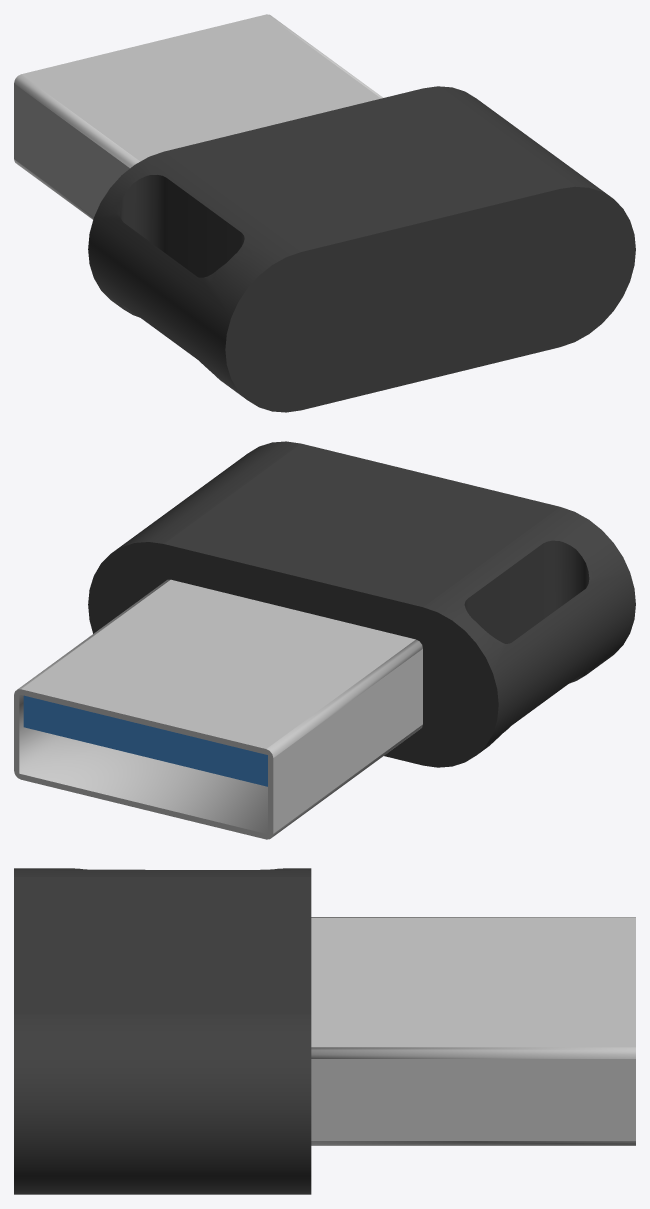
The model's file is FlashDrive.glb.
3 renders of one model, top to bottom at view 1: azimuth 30°, elevation 25°; view 2: azimuth 150°, elevation 25°; view 3: azimuth 270°, elevation 25°, orthographic. The views are drawn at different scales.
Visible parts, largest first — view 1: Body, ConnectorShield; view 2: Body, ConnectorShield, Connector; view 3: Body, ConnectorShield.
Boxes of the visible parts, x1,y1,x2,y2 form: Body: (88,86,635,412); ConnectorShield: (14,14,383,219); Body: (88,441,635,767); ConnectorShield: (14,579,422,839); Connector: (23,695,267,786); Body: (14,868,311,1194); ConnectorShield: (311,917,635,1145).
Bounding box in the file's own units: 0.019 × 0.007 × 0.023.
